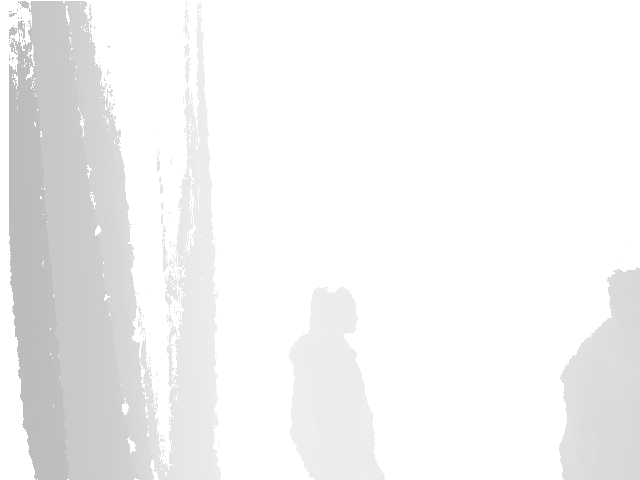head: (309, 286, 359, 335), (608, 269, 640, 327)
person: (287, 287, 389, 480), (557, 269, 640, 480)
